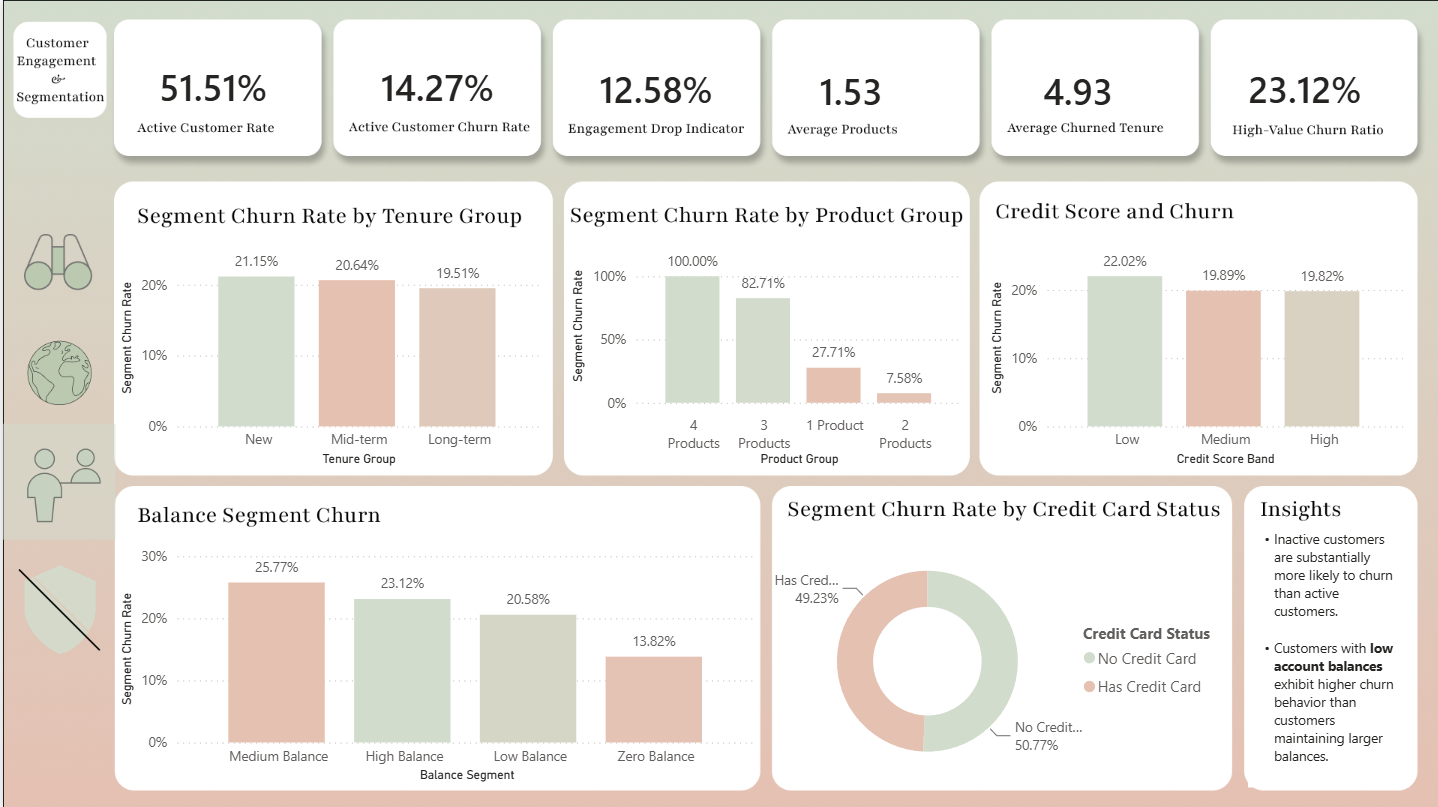

Layout of this report page (visuals, bound fields, positions):
{"tool":"powerbi","page":{"name":"Customer Engagement & Segmentation","canvas":[1280,720],"ordinal":2},"visuals":[{"type":"cardVisual","fields":{"Data":["Measures (2).Active Customer Rate"]},"box":[110,22.5,181.2,108.8],"z":0},{"type":"cardVisual","fields":{"Data":["Measures (2).Active Customer Churn Rate"]},"box":[306.2,22.5,176.2,108.8],"z":1000},{"type":"cardVisual","fields":{"Data":["Measures (2).Engagement Drop Indicator"]},"box":[501.2,23.8,160,108.8],"z":2000},{"type":"cardVisual","fields":{"Data":["Measures (2).Average Products"]},"box":[696.2,25,177.5,107.5],"z":3000},{"type":"cardVisual","fields":{"Data":["Measures (2).Average Churned Tenure"]},"box":[895,25,198.8,108.8],"z":4000},{"type":"cardVisual","fields":{"Data":["Measures (2).High-Value Churn Ratio"]},"box":[1077.5,13.8,202.5,128.8],"z":5000},{"type":"columnChart","fields":{"Category":["Bank_Customers.Tenure Group"],"Y":["Measures (2).Segment Churn Rate"]},"box":[100,207.5,382.5,211.2],"z":6000},{"type":"columnChart","fields":{"Category":["Bank_Customers.Product Group"],"Y":["Measures (2).Segment Churn Rate"]},"box":[501.2,207.5,356.2,211.2],"z":7000},{"type":"clusteredColumnChart","title":"Credit Score and Churn","fields":{"Category":["Bank_Customers.Credit Score Band"],"Y":["Measures (2).Segment Churn Rate"]},"box":[873.8,207.5,376.2,211.2],"z":8000},{"type":"clusteredColumnChart","title":"Balance Segment Churn","fields":{"Category":["Bank_Customers.Balance Segment"],"Y":["Measures (2).Segment Churn Rate"]},"box":[100,480,575,220],"z":9000},{"type":"donutChart","fields":{"Category":["Bank_Customers.Credit Card Status"],"Y":["Measures (2).Segment Churn Rate"]},"box":[678.8,466.2,415,242.5],"z":10000},{"type":"actionButton","box":[0,286.2,100,82.5],"z":11000},{"type":"actionButton","box":[0,486.9,100,105.4],"z":12000},{"type":"actionButton","box":[0,193,100,83],"z":13000},{"type":"actionButton","box":[0,377,100,103],"z":13001},{"type":"textbox","box":[1106.7,465.6,143.3,234.4],"z":13002}]}

Visuals, with their boxes in screenshot pixels (x1, y1, x2, y2), scaled from the page's 1280x720 canvas onto the 1438x807 screenshot:
cardVisual - Measures (2).Active Customer Rate: <region>124, 25, 327, 147</region>
cardVisual - Measures (2).Active Customer Churn Rate: <region>344, 25, 542, 147</region>
cardVisual - Measures (2).Engagement Drop Indicator: <region>563, 27, 743, 149</region>
cardVisual - Measures (2).Average Products: <region>782, 28, 982, 149</region>
cardVisual - Measures (2).Average Churned Tenure: <region>1005, 28, 1229, 150</region>
cardVisual - Measures (2).High-Value Churn Ratio: <region>1211, 15, 1437, 160</region>
columnChart - Bank_Customers.Tenure Group x Measures (2).Segment Churn Rate: <region>112, 233, 542, 469</region>
columnChart - Bank_Customers.Product Group x Measures (2).Segment Churn Rate: <region>563, 233, 963, 469</region>
"Credit Score and Churn" clusteredColumnChart: <region>982, 233, 1404, 469</region>
"Balance Segment Churn" clusteredColumnChart: <region>112, 538, 758, 785</region>
donutChart - Bank_Customers.Credit Card Status x Measures (2).Segment Churn Rate: <region>763, 523, 1229, 794</region>
actionButton: <region>0, 321, 112, 413</region>
actionButton: <region>0, 546, 112, 664</region>
actionButton: <region>0, 216, 112, 309</region>
actionButton: <region>0, 423, 112, 538</region>
textbox: <region>1243, 522, 1404, 785</region>
